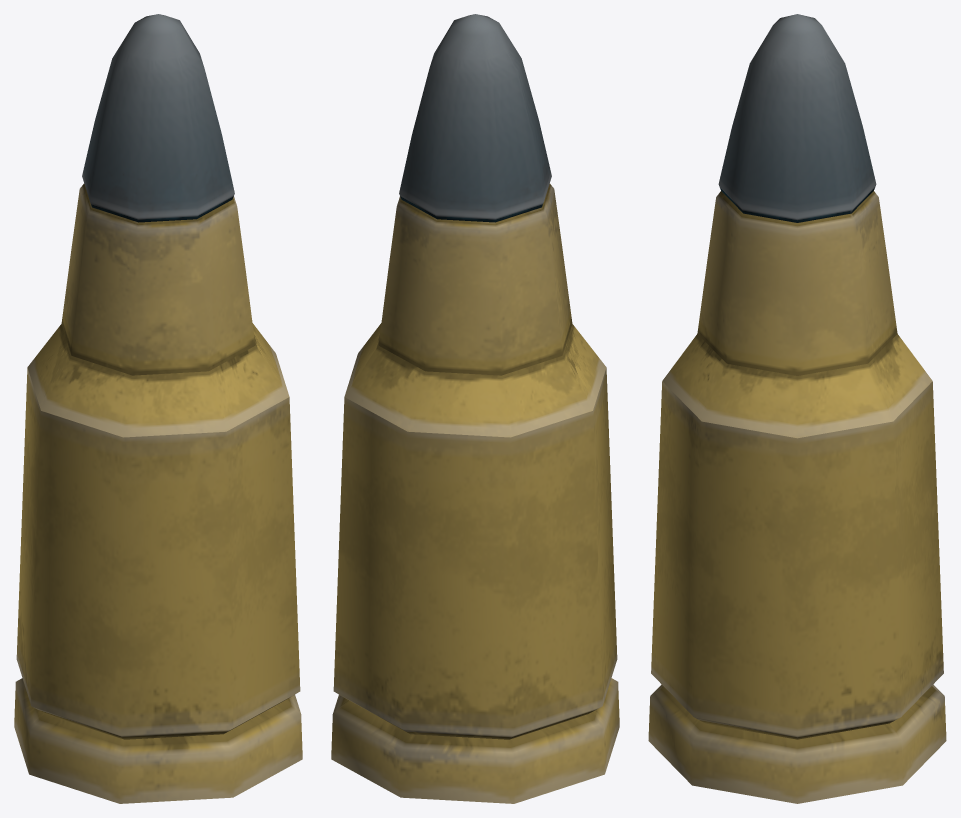
File: TA_Heavy_03_Bullet_01.fbx
3 renders of one model, left to right at view 1: azimuth 30°, elevation 25°; view 2: azimuth 150°, elevation 25°; view 3: azimuth 270°, elevation 25°, orthographic.
Visible parts, largest first — view 1: TA_Heavy_03_Bullet_01; view 2: TA_Heavy_03_Bullet_01; view 3: TA_Heavy_03_Bullet_01.
Boxes of the visible parts, box(x1,y1,x2,y2) form: TA_Heavy_03_Bullet_01: box(14, 14, 302, 803); TA_Heavy_03_Bullet_01: box(331, 14, 619, 803); TA_Heavy_03_Bullet_01: box(648, 14, 946, 803).
Bounding box in the file's own units: 21.98 × 59.15 × 21.98.
